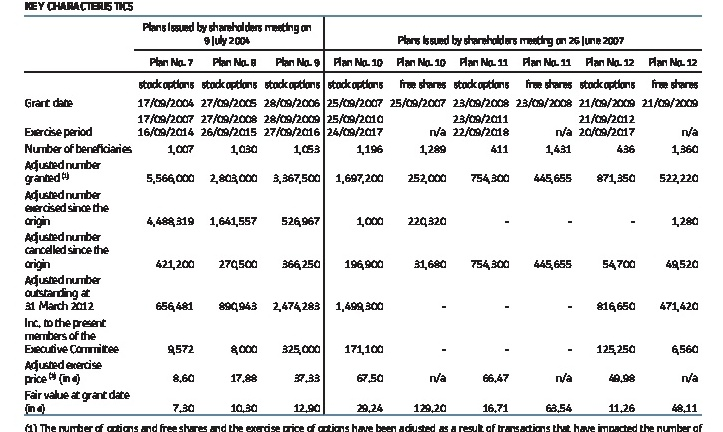table: (0, 0, 723, 432)
